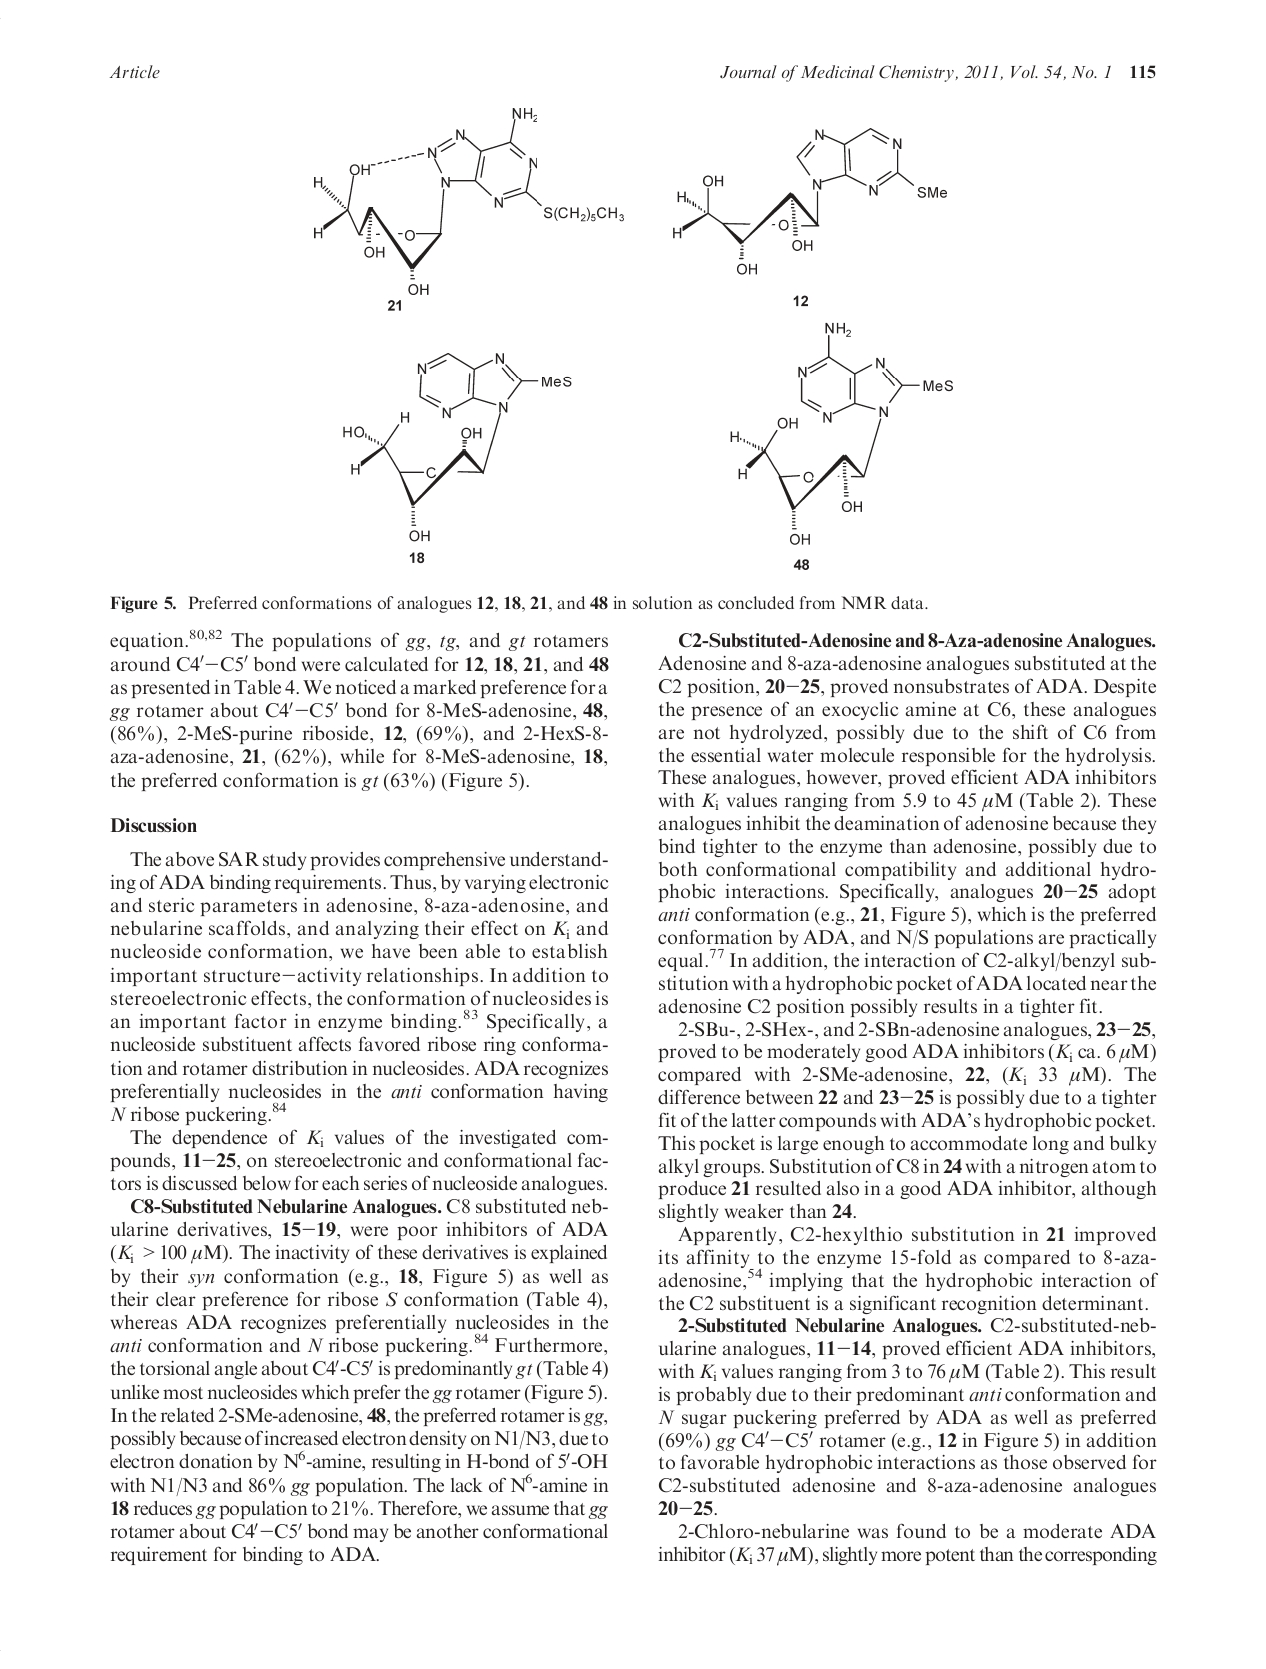exist_molecular: (305, 102, 630, 297), (722, 314, 957, 549), (332, 343, 578, 544), (665, 118, 951, 282)
